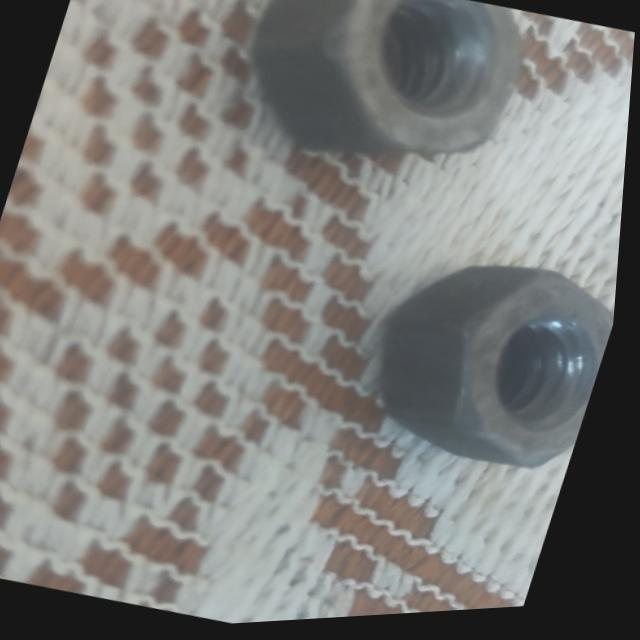disinfected nut: (387, 271, 619, 475), (254, 0, 521, 159)
